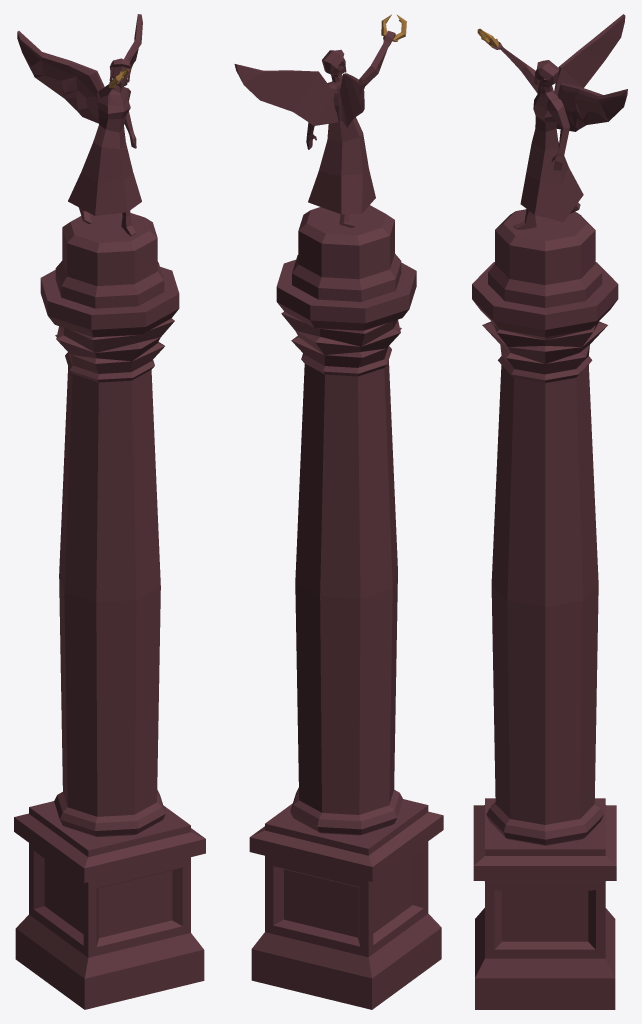
The model's file is SM_Victory_Pillar_Empire.fbx.
3 views of the same model, side by side, from view 1: azimuth 30°, elevation 25°; view 2: azimuth 150°, elevation 25°; view 3: azimuth 270°, elevation 25° (orthographic).
Parts seen in each view (by area): view 1: SM_Victory_Pillar_Empire; view 2: SM_Victory_Pillar_Empire; view 3: SM_Victory_Pillar_Empire.
Boxes of the visible parts, bbox=[...] form: SM_Victory_Pillar_Empire: bbox=[14, 14, 205, 1009]; SM_Victory_Pillar_Empire: bbox=[234, 14, 443, 1009]; SM_Victory_Pillar_Empire: bbox=[472, 14, 627, 1009].
Size of the model in its own units: 1.55 by 10.27 by 1.54.
